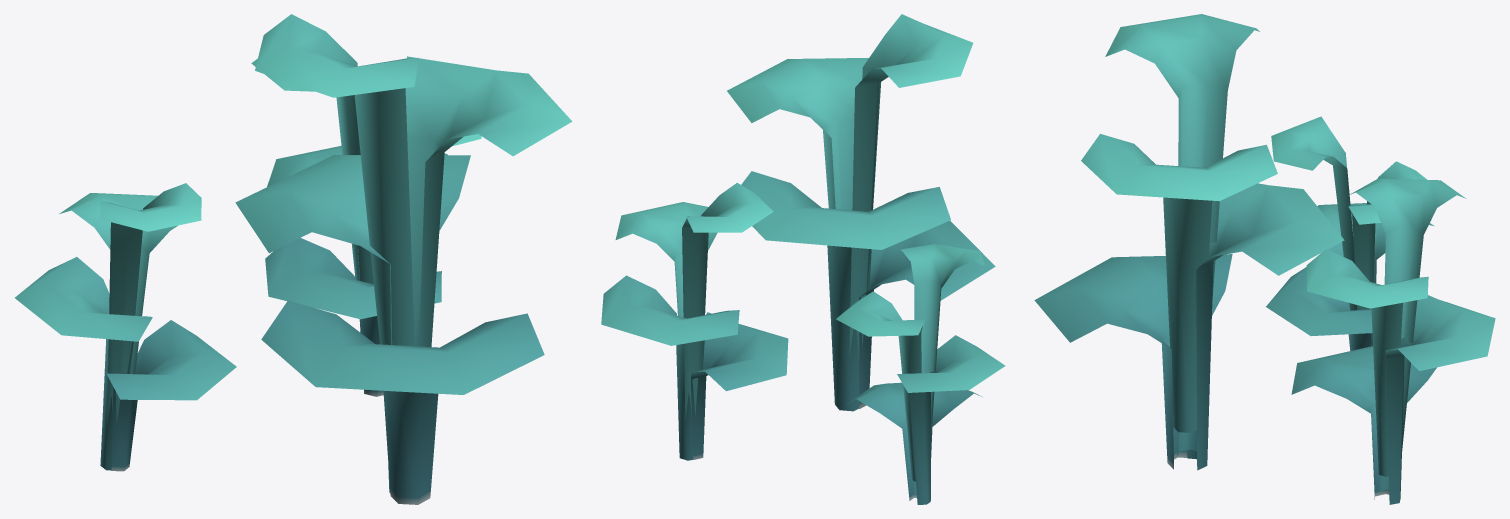
File: VEG0310023.fbx
3 renders of one model, left to right at view 1: azimuth 30°, elevation 25°; view 2: azimuth 150°, elevation 25°; view 3: azimuth 270°, elevation 25°, orthographic. The views are drawn at different scales.
Parts seen in each view (by area): view 1: smVEG0310023; view 2: smVEG0310023; view 3: smVEG0310023.
Boxes of the visible parts, left/top/right/bottom form: smVEG0310023: left=15, top=14, right=572, bottom=504; smVEG0310023: left=601, top=14, right=1005, bottom=504; smVEG0310023: left=1034, top=14, right=1495, bottom=504.
Bounding box in the file's own units: 44.44 × 44.1 × 45.57.
Materials: 1 (1 with a texture image).
